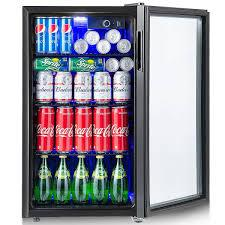beer: (34, 71, 133, 104)
